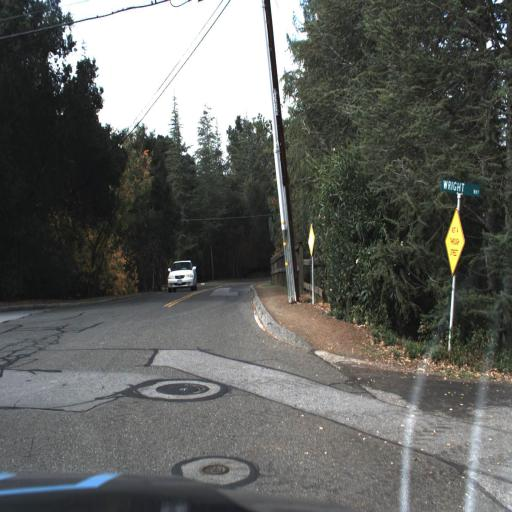car: (165, 257, 197, 294)
